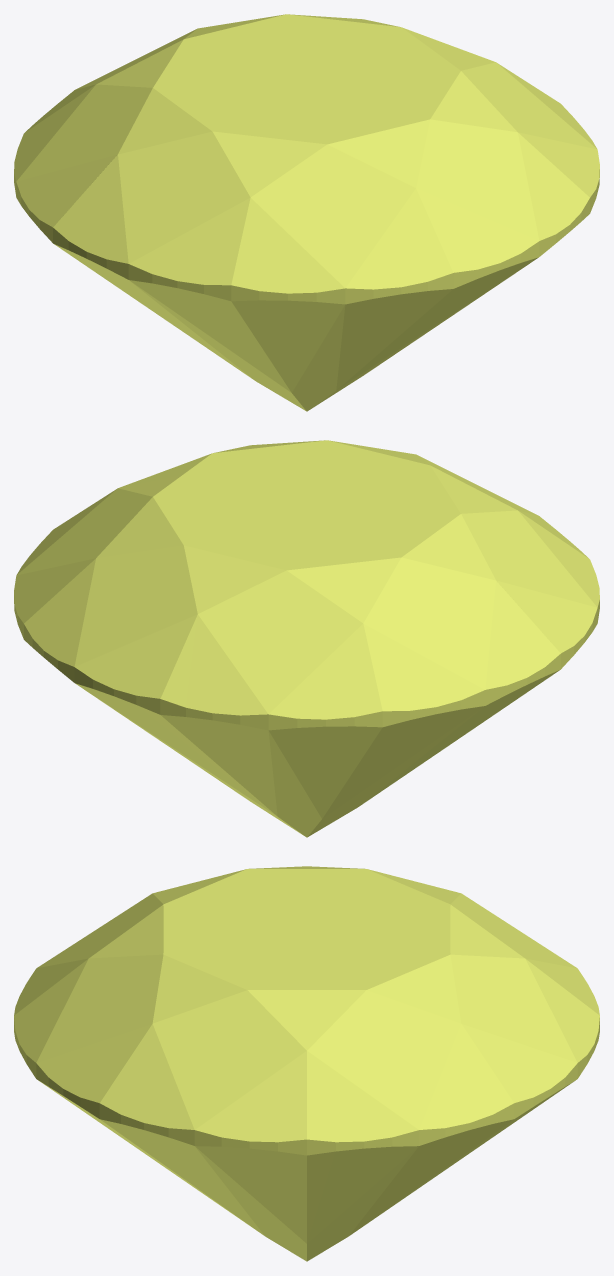
The model's file is RoundPeridot.glb.
The picture shows the model from 3 angles, top to bottom: view 1: azimuth 30°, elevation 25°; view 2: azimuth 150°, elevation 25°; view 3: azimuth 270°, elevation 25°; orthographic projection.
Visible parts, largest first — view 1: new twist dia for 3d model; view 2: new twist dia for 3d model; view 3: new twist dia for 3d model.
Part boxes in pixels (<box>): new twist dia for 3d model: <box>14,14,599,411</box>; new twist dia for 3d model: <box>14,440,599,837</box>; new twist dia for 3d model: <box>14,866,599,1261</box>.
Size of the model in its own units: 7.45 by 4.66 by 7.45.
